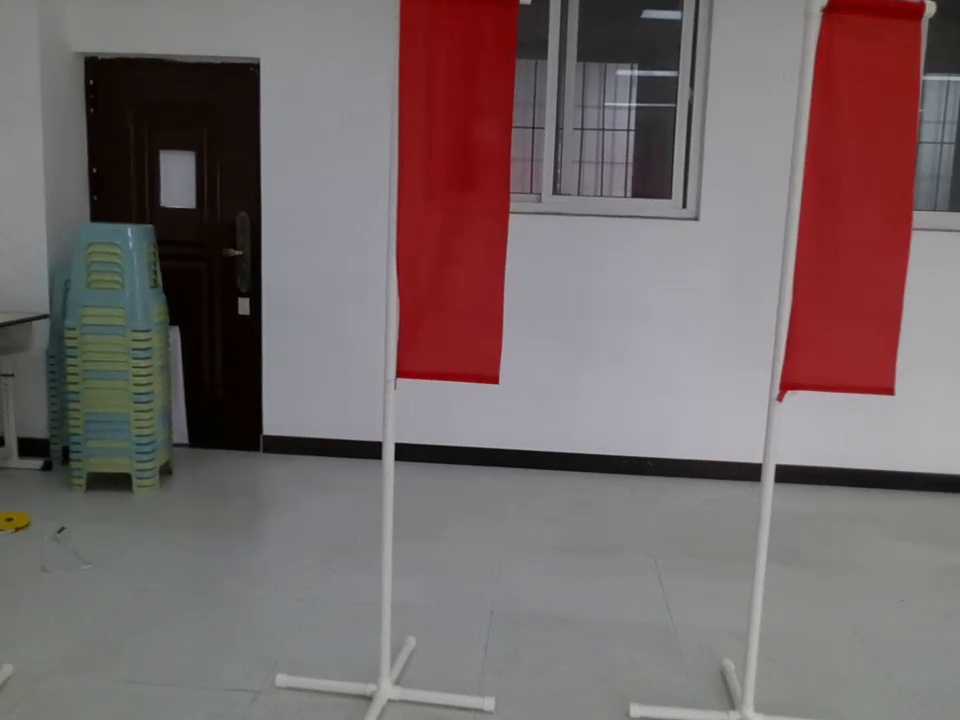qi: (775, 1, 923, 421), (373, 2, 523, 400)
